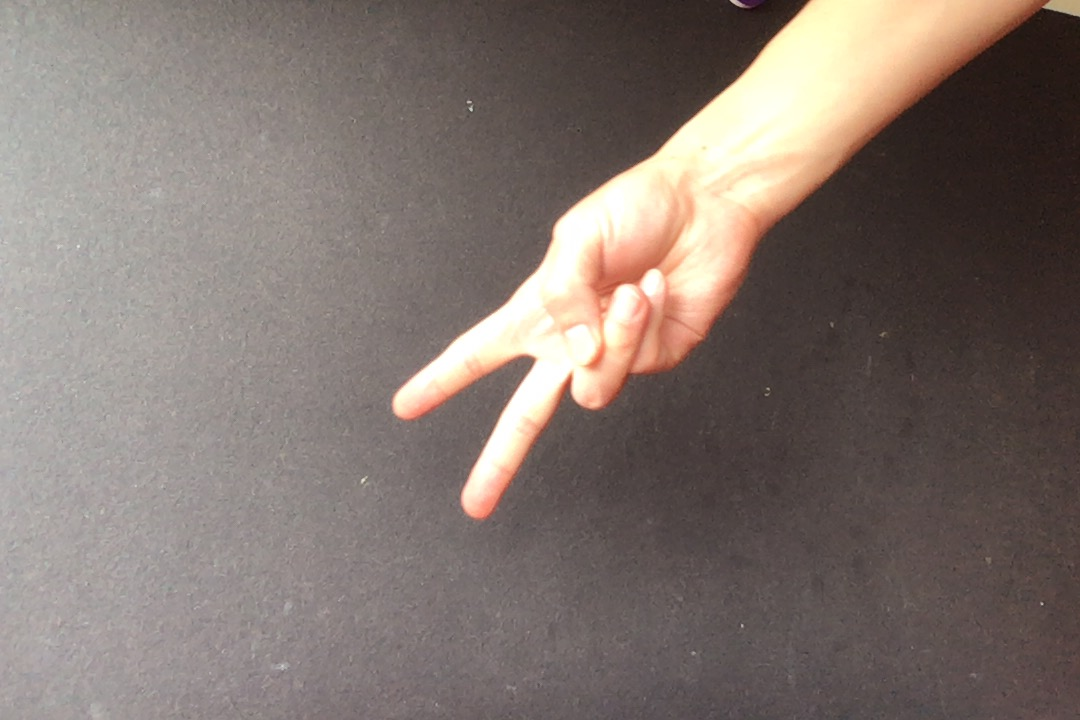peacesign: (384, 162, 755, 528)
